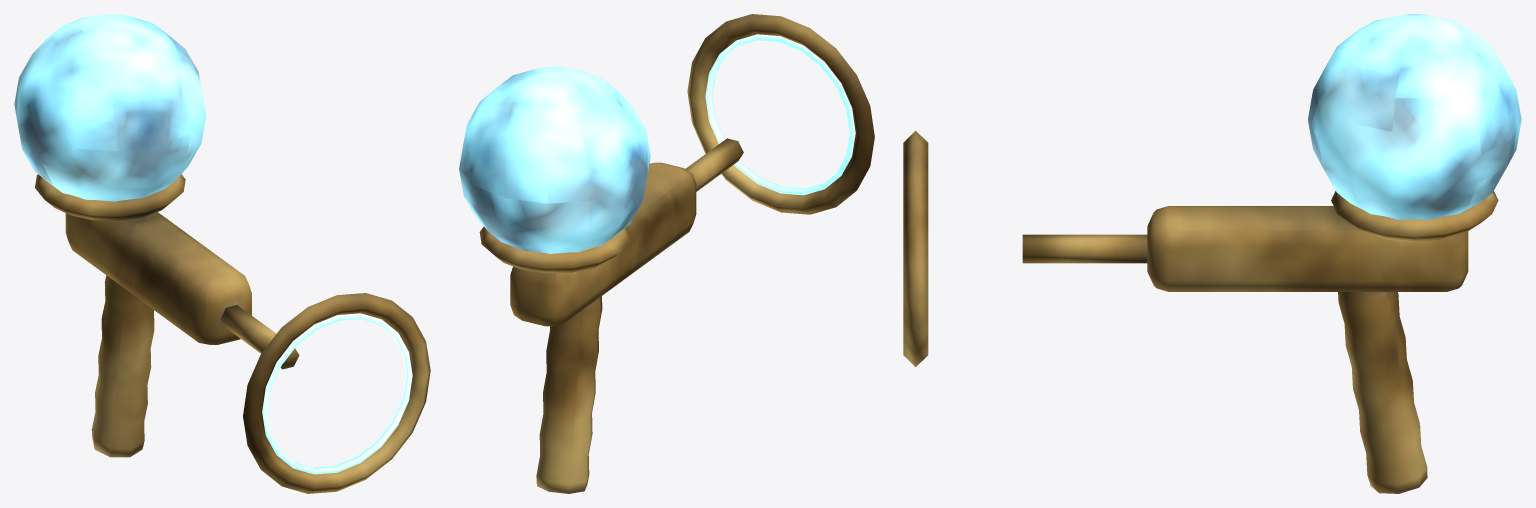
The model's file is BubbleGun.fbx.
3 renders of one model, left to right at view 1: azimuth 30°, elevation 25°; view 2: azimuth 150°, elevation 25°; view 3: azimuth 270°, elevation 25°, orthographic. The views are drawn at different scales.
Visible parts, largest first — view 1: BubbleGun; view 2: BubbleGun; view 3: BubbleGun.
Part boxes in pixels (bbox=[...]): BubbleGun: bbox=[14, 14, 430, 493]; BubbleGun: bbox=[459, 14, 874, 493]; BubbleGun: bbox=[903, 14, 1521, 493].
Bounding box in the file's own units: 0.134 × 0.2866 × 0.347.
